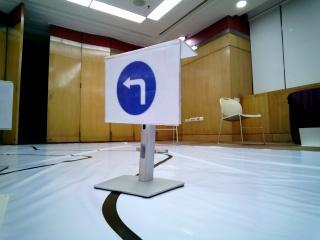left: (109, 55, 169, 119)
